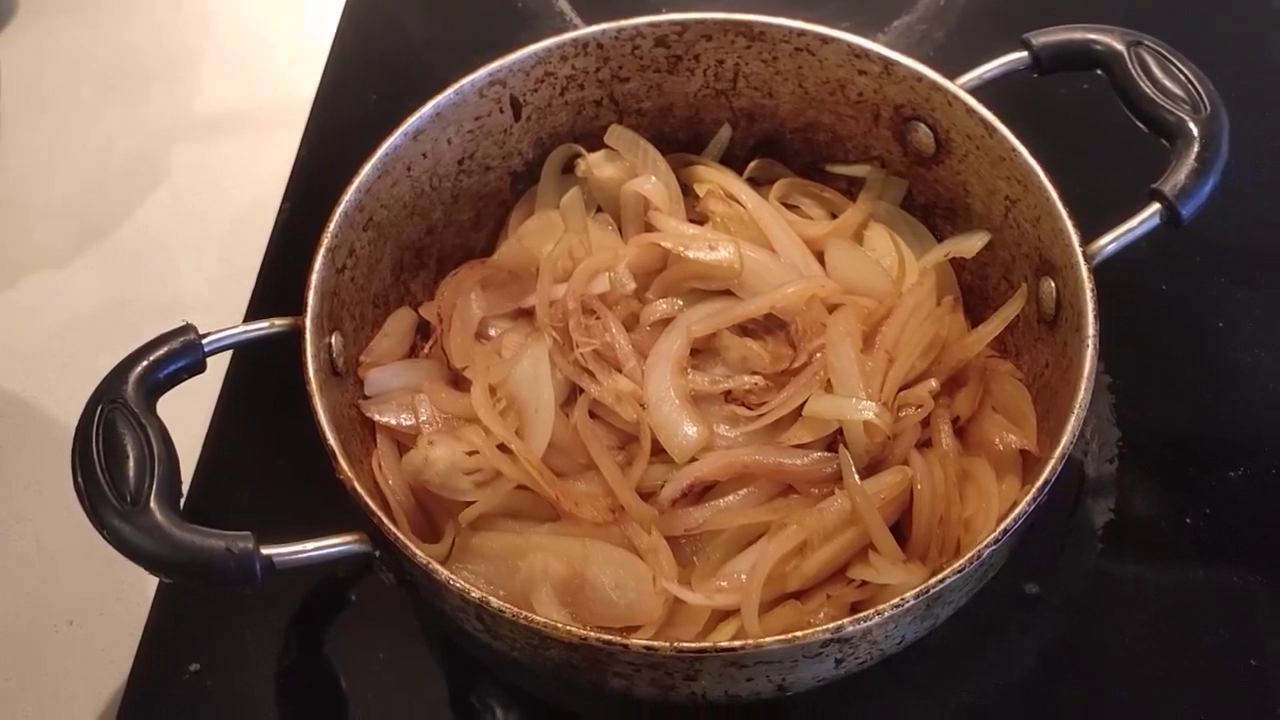Cooked: (370, 174, 911, 510)
